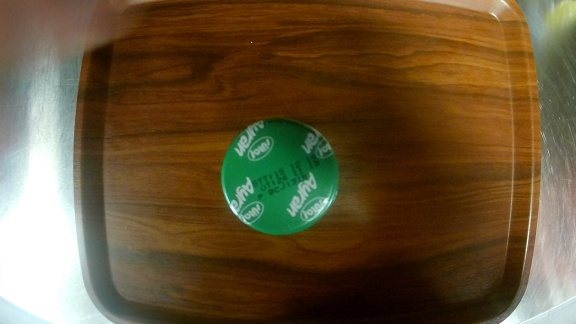ayran: (215, 114, 351, 240)
